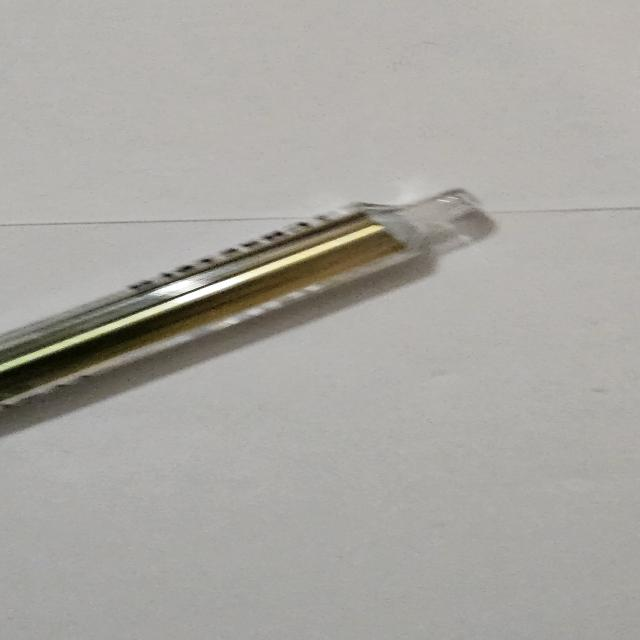Hazard: (1, 186, 497, 416)
